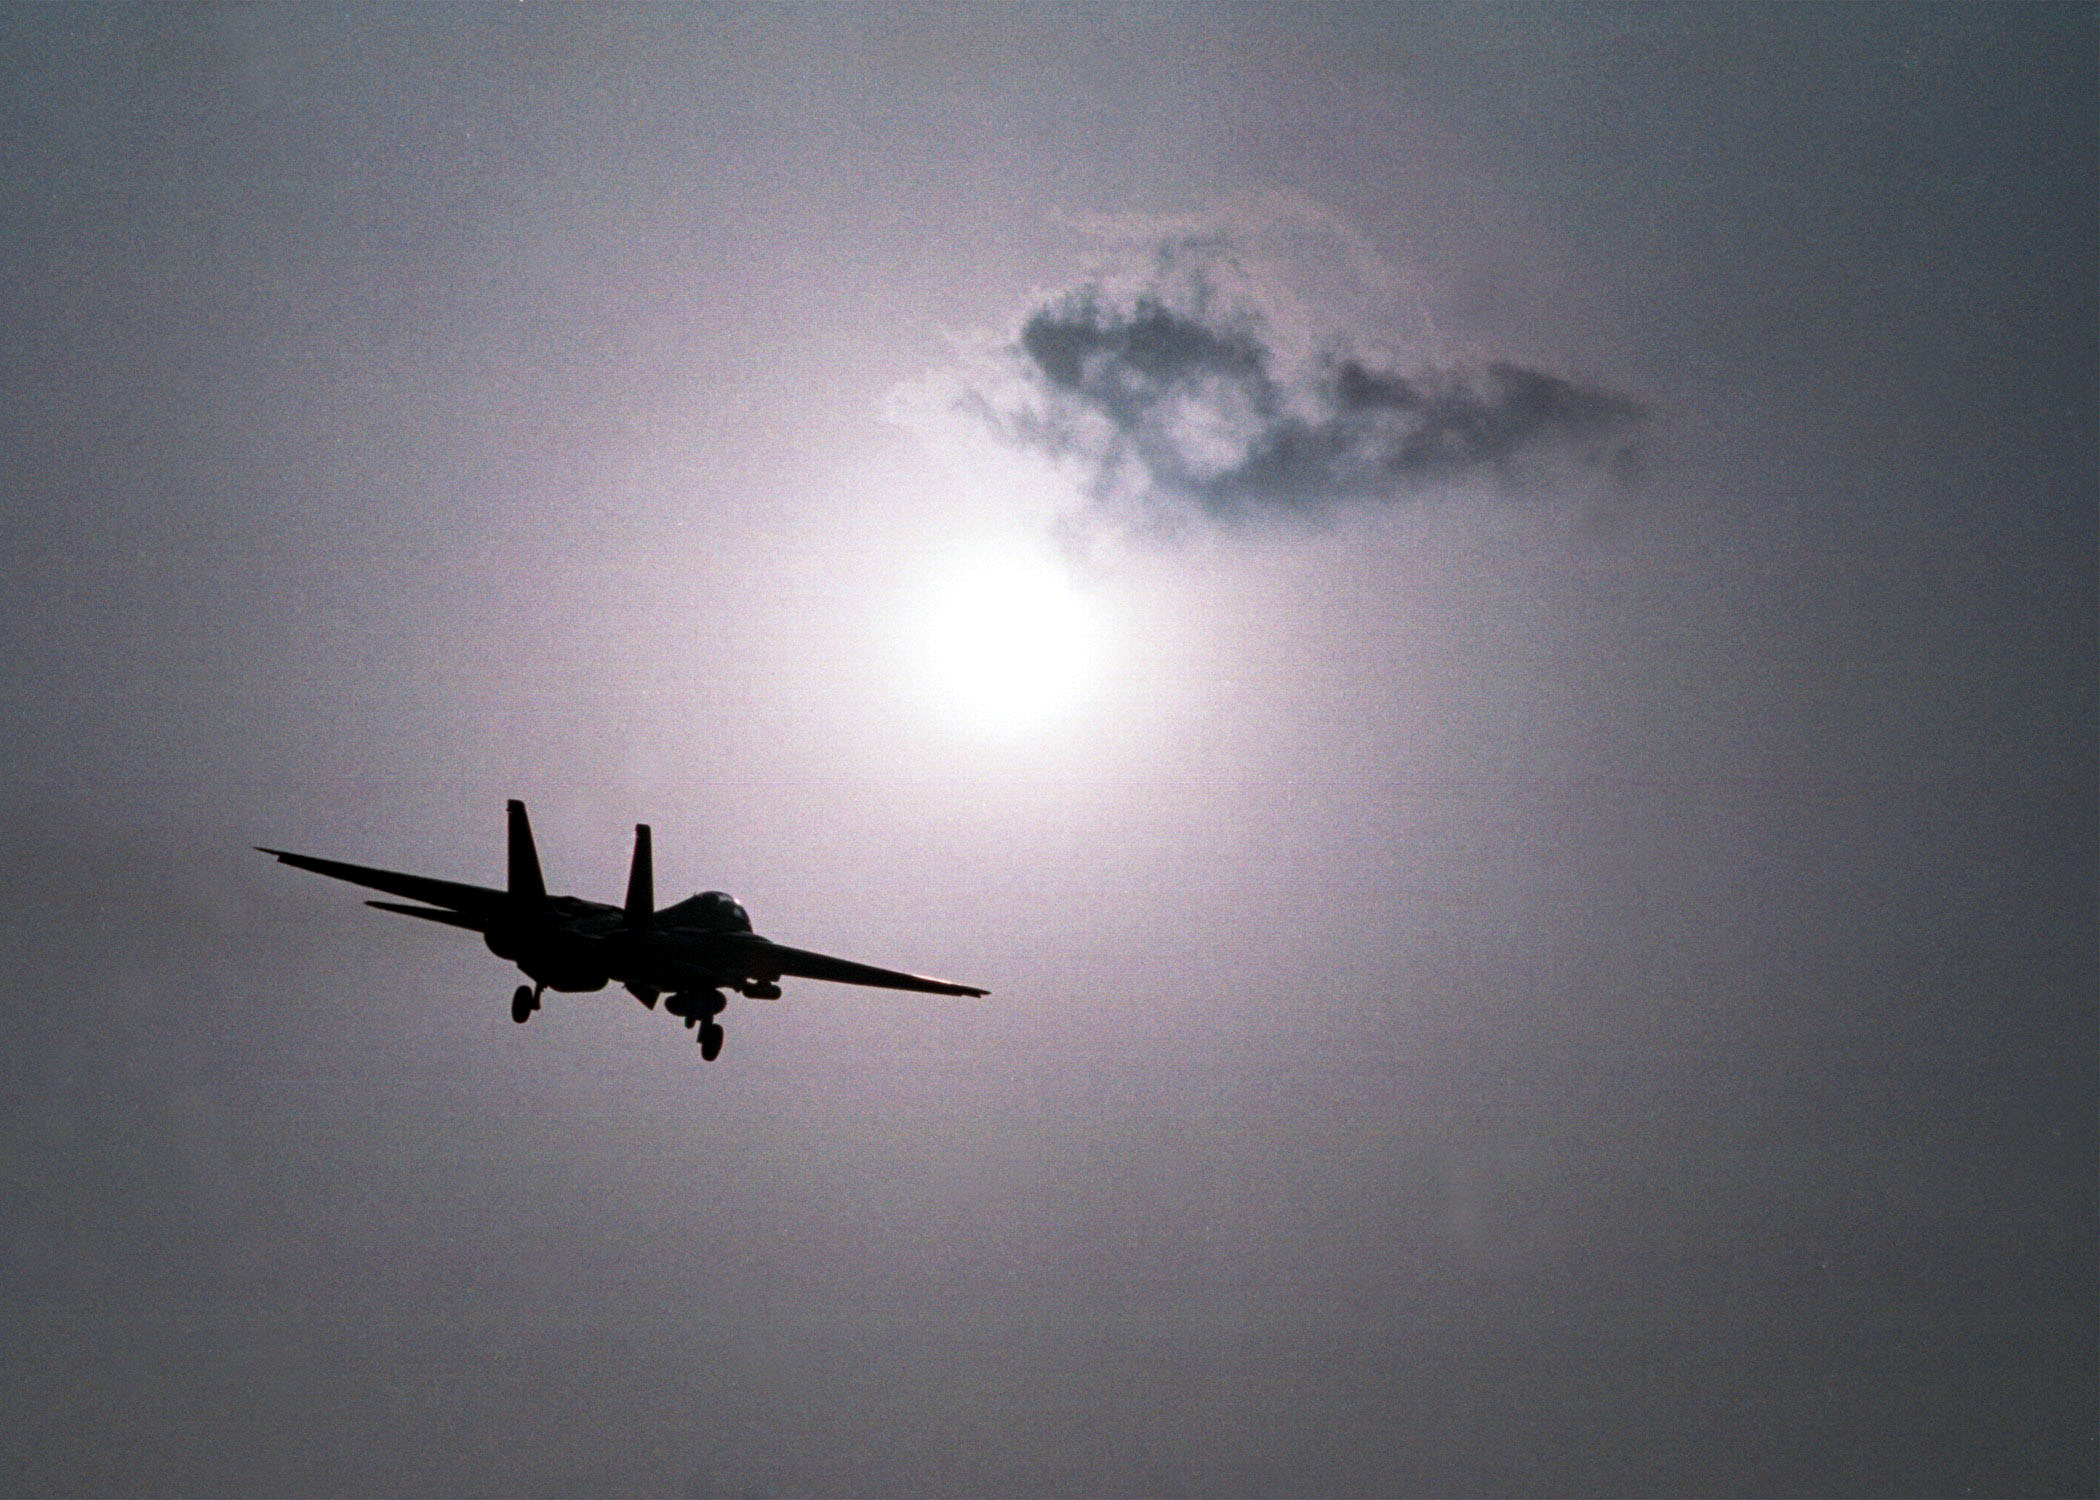F14: (250, 799, 993, 1063)
